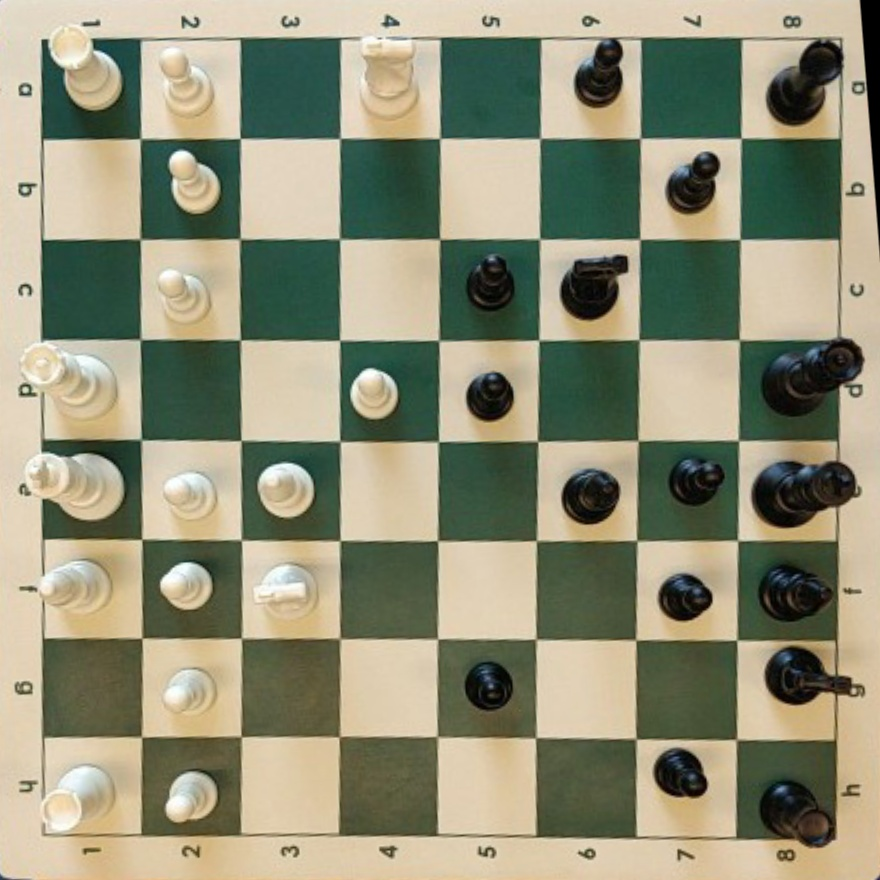black-bishop: (759, 564, 833, 621), (562, 462, 618, 518)
black-king: (754, 460, 858, 527)
black-knight: (766, 647, 865, 704), (560, 254, 628, 319)
black-pawn: (574, 38, 624, 105), (667, 151, 720, 212), (654, 749, 709, 798), (670, 456, 725, 504), (659, 573, 713, 621), (467, 255, 514, 309), (466, 371, 514, 420), (465, 661, 513, 710)
black-queen: (763, 339, 864, 414)
black-rook: (767, 40, 842, 124), (760, 779, 834, 847)
white-bishop: (36, 559, 111, 613), (257, 462, 314, 518)
white-king: (20, 451, 124, 520)
white-knight: (359, 41, 419, 118), (254, 563, 316, 619)
white-pawn: (159, 48, 214, 117), (167, 149, 221, 214), (157, 269, 210, 324), (164, 770, 218, 823), (162, 470, 216, 519), (159, 561, 212, 610), (350, 368, 398, 419), (163, 667, 214, 713)
white-queen: (18, 344, 117, 418)
white-rook: (48, 27, 123, 112), (41, 764, 114, 834)
